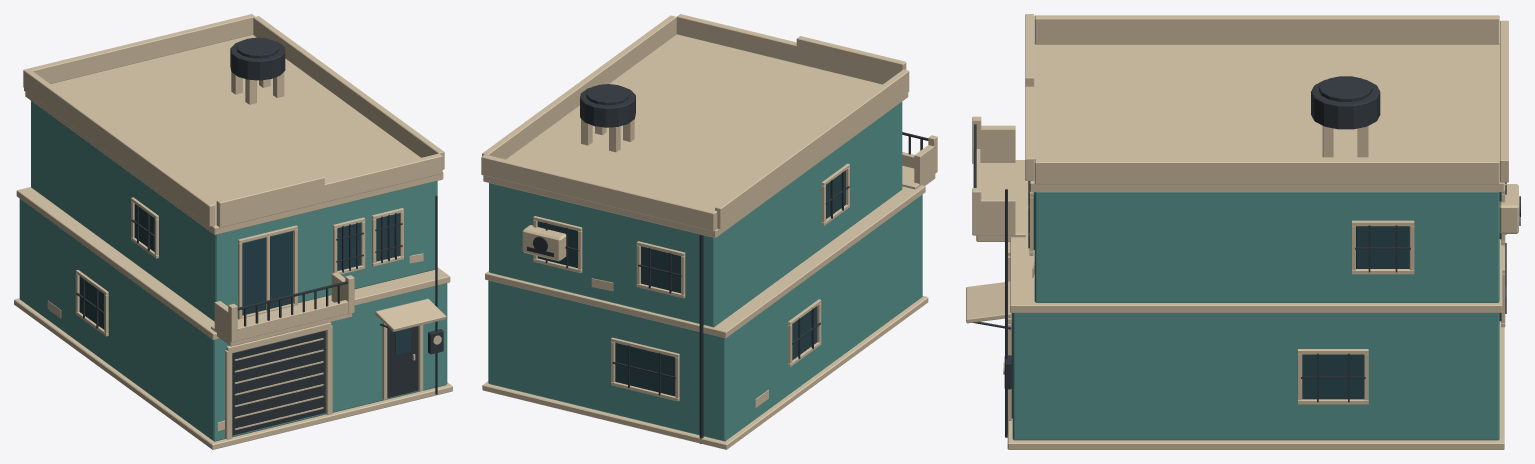
File: yun_caribbean_house_02.glb
3 renders of one model, left to right at view 1: azimuth 30°, elevation 25°; view 2: azimuth 150°, elevation 25°; view 3: azimuth 270°, elevation 25°, orthographic. The views are drawn at different scales.
Parts seen in each view (by area): view 1: BATCH_DetailRoof, BATCH_WallPlaster, BATCH_DarkMetal, BATCH_WindowGlass; view 2: BATCH_DetailRoof, BATCH_WallPlaster, BATCH_WindowGlass, BATCH_DarkMetal; view 3: BATCH_DetailRoof, BATCH_WallPlaster, BATCH_DarkMetal, BATCH_WindowGlass.
Part boxes in pixels (x1,y1,x2,y2): BATCH_DetailRoof: (14, 14, 452, 449); BATCH_WallPlaster: (19, 101, 447, 441); BATCH_DarkMetal: (76, 37, 443, 435); BATCH_WindowGlass: (79, 204, 410, 355); BATCH_DetailRoof: (481, 14, 937, 449); BATCH_WallPlaster: (488, 102, 922, 441); BATCH_WindowGlass: (537, 170, 845, 396); BATCH_DarkMetal: (527, 84, 928, 443); BATCH_DetailRoof: (966, 14, 1518, 449); BATCH_WallPlaster: (1012, 192, 1499, 440); BATCH_DarkMetal: (972, 76, 1520, 437); BATCH_WindowGlass: (1033, 192, 1501, 399).
Size of what is drawn, in the model's own units: 3.91 by 3.99 by 6.14.
